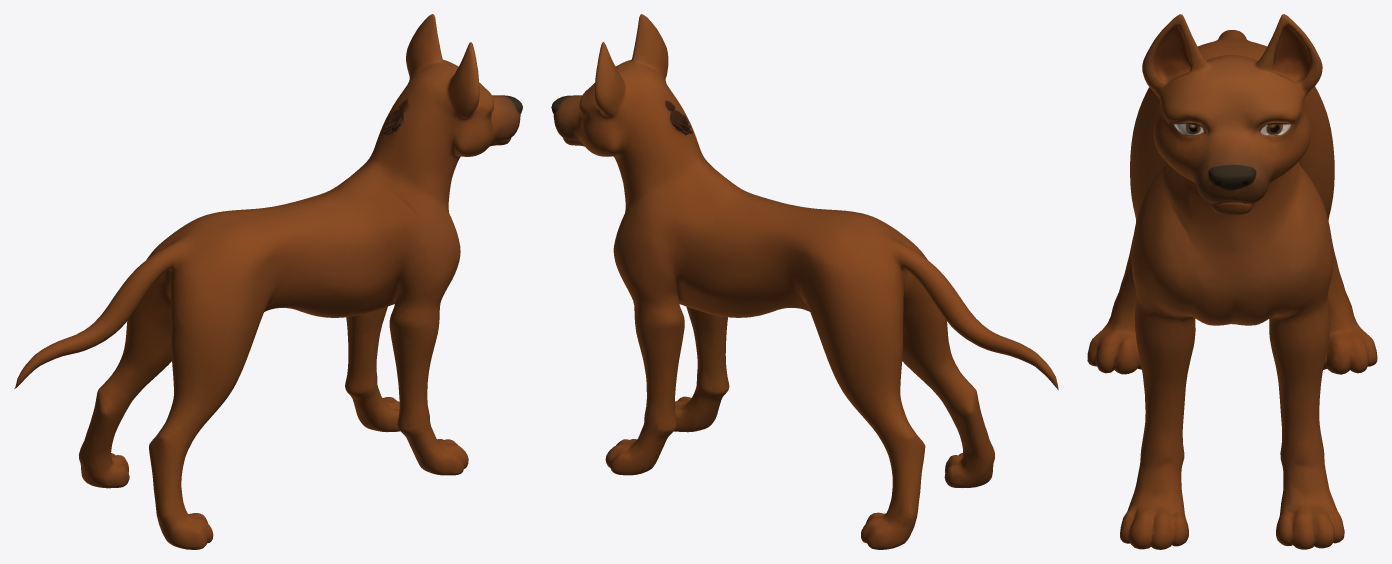
Rendered from generic_base.glb.
The picture shows the model from 3 angles, left to right: view 1: azimuth 30°, elevation 25°; view 2: azimuth 150°, elevation 25°; view 3: azimuth 270°, elevation 25°; orthographic projection. The views are drawn at different scales.
Parts seen in each view (by area): view 1: tripo_node_8efa0019-b032-46e5-b697-5918532a4698; view 2: tripo_node_8efa0019-b032-46e5-b697-5918532a4698; view 3: tripo_node_8efa0019-b032-46e5-b697-5918532a4698.
Boxes of the visible parts, x1,y1,x2,y2 form: tripo_node_8efa0019-b032-46e5-b697-5918532a4698: [14, 14, 522, 549]; tripo_node_8efa0019-b032-46e5-b697-5918532a4698: [551, 14, 1058, 549]; tripo_node_8efa0019-b032-46e5-b697-5918532a4698: [1087, 14, 1377, 549].
Bounding box in the file's own units: 0.979 × 0.7594 × 0.3631.
Materials: 1 (1 with a texture image).
